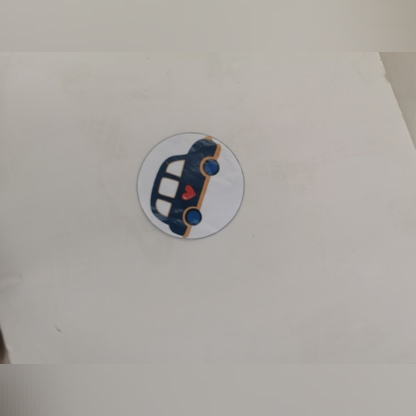car: (140, 131, 224, 238)
